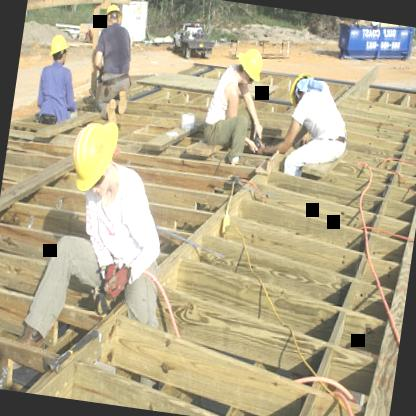helmet: (66, 112, 122, 199), (232, 46, 264, 86), (288, 66, 317, 108), (46, 34, 68, 66), (102, 0, 124, 30)
